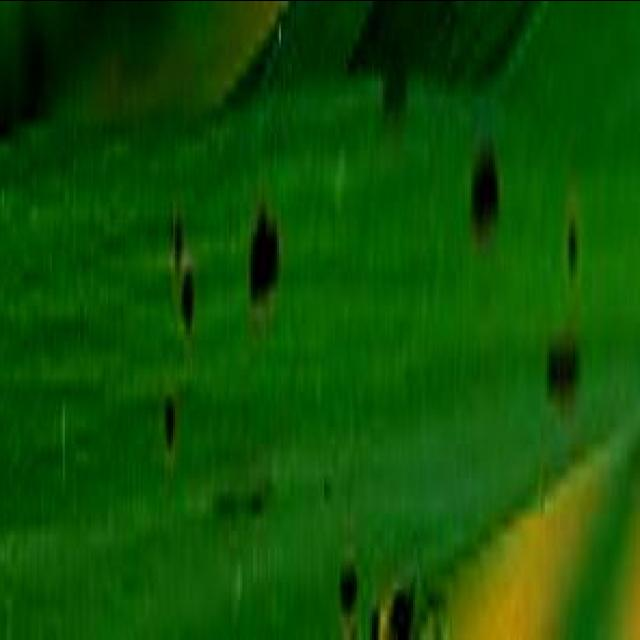Brown_Spot: (236, 186, 300, 320), (458, 121, 516, 249), (525, 320, 601, 415), (324, 536, 378, 624), (556, 184, 596, 302), (370, 65, 424, 123), (174, 260, 208, 338), (160, 378, 188, 472), (108, 558, 158, 606), (208, 480, 248, 532), (165, 208, 192, 274), (318, 458, 348, 506), (248, 482, 272, 521), (335, 112, 357, 138)
